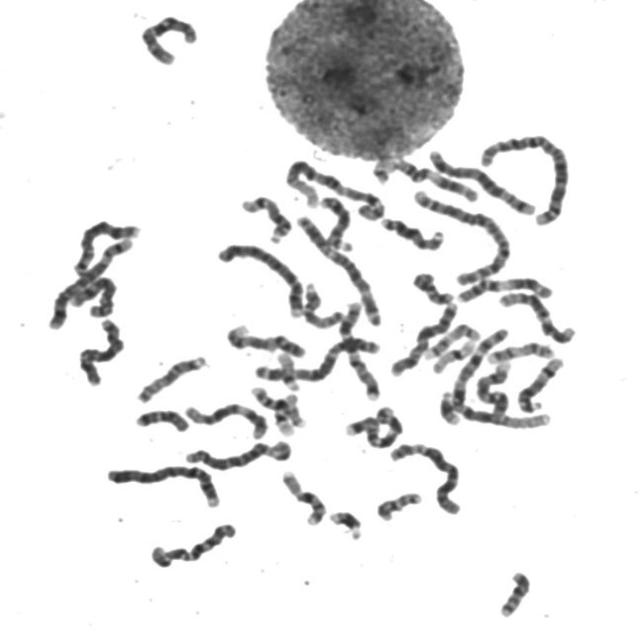A1: (442, 321, 556, 430), (280, 153, 388, 222)
A2: (408, 184, 514, 286), (476, 127, 574, 227)
A3: (290, 208, 388, 328), (249, 332, 383, 384)
B4: (211, 236, 308, 320), (102, 460, 225, 509)
B5: (44, 217, 140, 333), (424, 144, 538, 216)
C10: (146, 516, 240, 570), (137, 12, 200, 69)
C11: (384, 153, 482, 203), (452, 270, 558, 304)
C12: (496, 286, 580, 344), (180, 397, 272, 441)
C6: (386, 438, 466, 516), (174, 438, 304, 478)
C7: (334, 295, 385, 402), (341, 402, 406, 450)
C8: (68, 214, 144, 275), (66, 270, 119, 320)
C9: (221, 318, 309, 359), (471, 357, 514, 417)
D13: (376, 211, 448, 252), (314, 190, 356, 253)
D14: (512, 352, 567, 413), (237, 190, 295, 244)
D15: (132, 350, 212, 406), (298, 276, 348, 329)
E16: (276, 465, 330, 527), (246, 382, 308, 429)
E17: (420, 318, 484, 362), (481, 336, 559, 365)
E18: (407, 266, 457, 306), (131, 404, 192, 434)
F19: (427, 324, 482, 376), (271, 388, 302, 438)
F20: (494, 566, 535, 620), (373, 486, 426, 523)
G21: (325, 505, 367, 542), (435, 384, 464, 426)
G22: (273, 347, 303, 392), (370, 149, 399, 186)
X: (385, 297, 462, 378), (73, 313, 128, 388)
